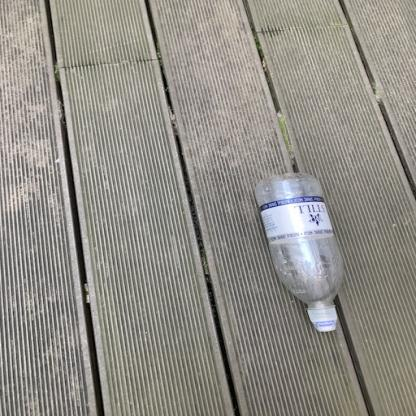trash: (251, 171, 341, 334)
